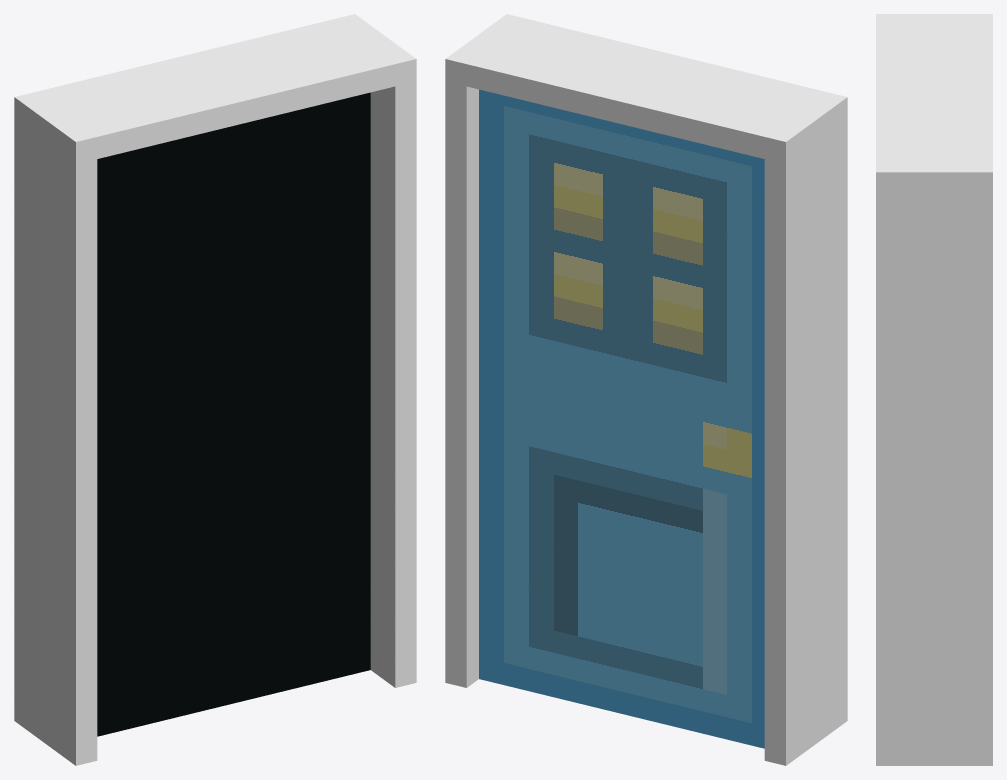
Rendered from entrance_door.gltf.
3 renders of one model, left to right at view 1: azimuth 30°, elevation 25°; view 2: azimuth 150°, elevation 25°; view 3: azimuth 270°, elevation 25°, orthographic. The views are drawn at different scales.
Parts seen in each view (by area): view 1: cube, Door Frame Right, Door Frame Top, Door Frame Left; view 2: Door, Door Frame Right, Door Frame Top, Door Frame Left; view 3: Door Frame Left, Door Frame Top.
Boxes of the visible parts, x1,y1,x2,y2 form: cube: (97,92,370,736); Door Frame Right: (14,119,97,765); Door Frame Top: (14,14,416,164); Door Frame Left: (370,81,416,687); Door: (479,89,764,748); Door Frame Right: (764,119,847,765); Door Frame Top: (445,14,847,164); Door Frame Left: (445,81,478,687); Door Frame Left: (876,193,992,765); Door Frame Top: (876,14,992,193).
Bounding box in the file's own units: 1 × 1.75 × 0.3125.
Materials: 2 (1 with a texture image).
